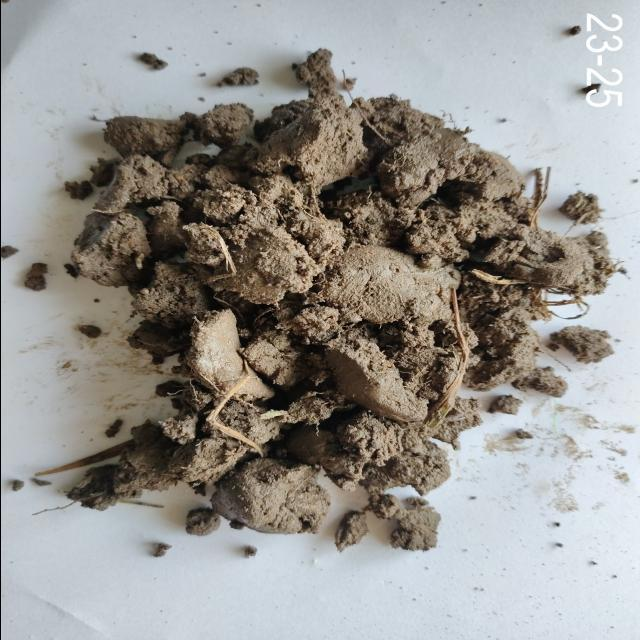soil: (192, 168, 470, 490)
